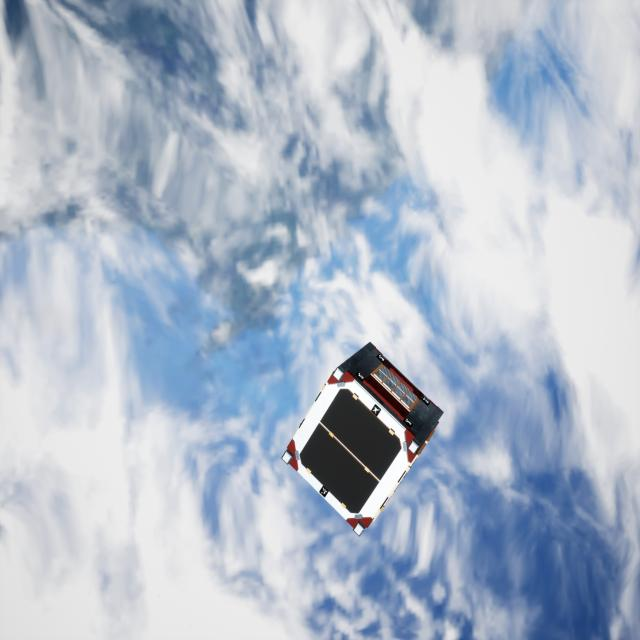medium_debris: (282, 339, 450, 545)
